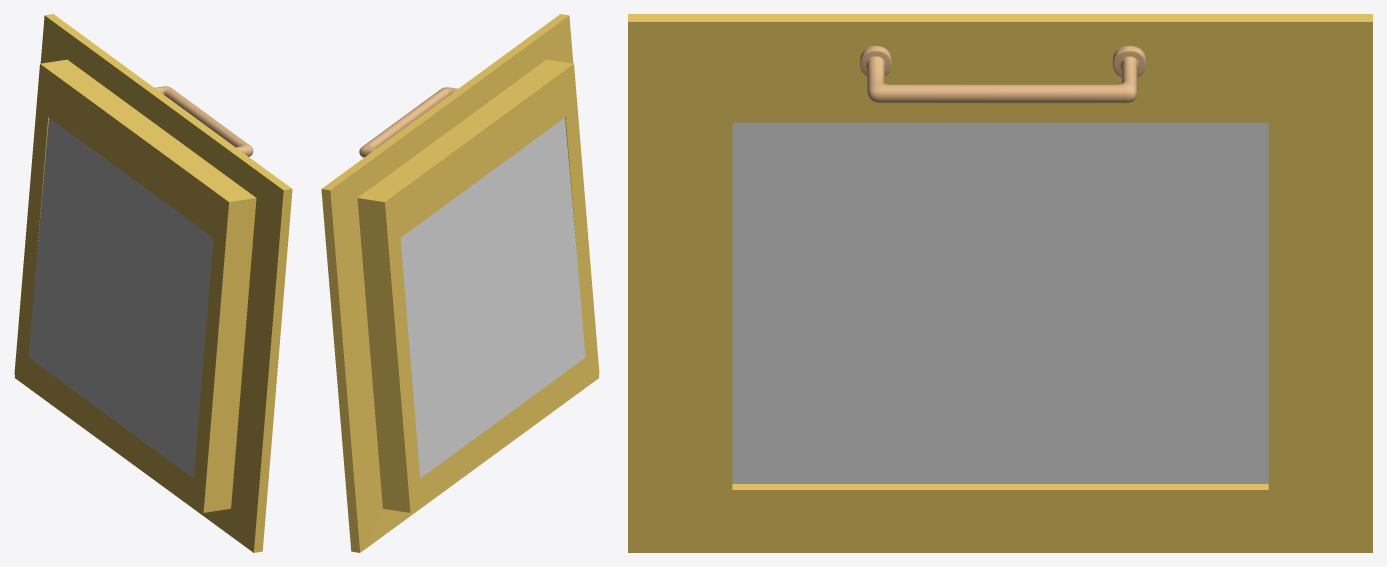
The model's file is Puerta_horno.fbx.
The picture shows the model from 3 angles, left to right: view 1: azimuth 30°, elevation 25°; view 2: azimuth 150°, elevation 25°; view 3: azimuth 270°, elevation 25°; orthographic projection. The views are drawn at different scales.
Visible parts, largest first — view 1: Cube.027; view 2: Cube.027; view 3: Cube.027.
Boxes of the visible parts, x1=… form: Cube.027: x1=14, y1=14, x2=292, y2=552; Cube.027: x1=321, y1=14, x2=599, y2=552; Cube.027: x1=628, y1=14, x2=1372, y2=552.
Size of the model in its own units: 2.7 by 8.81 by 10.72.
